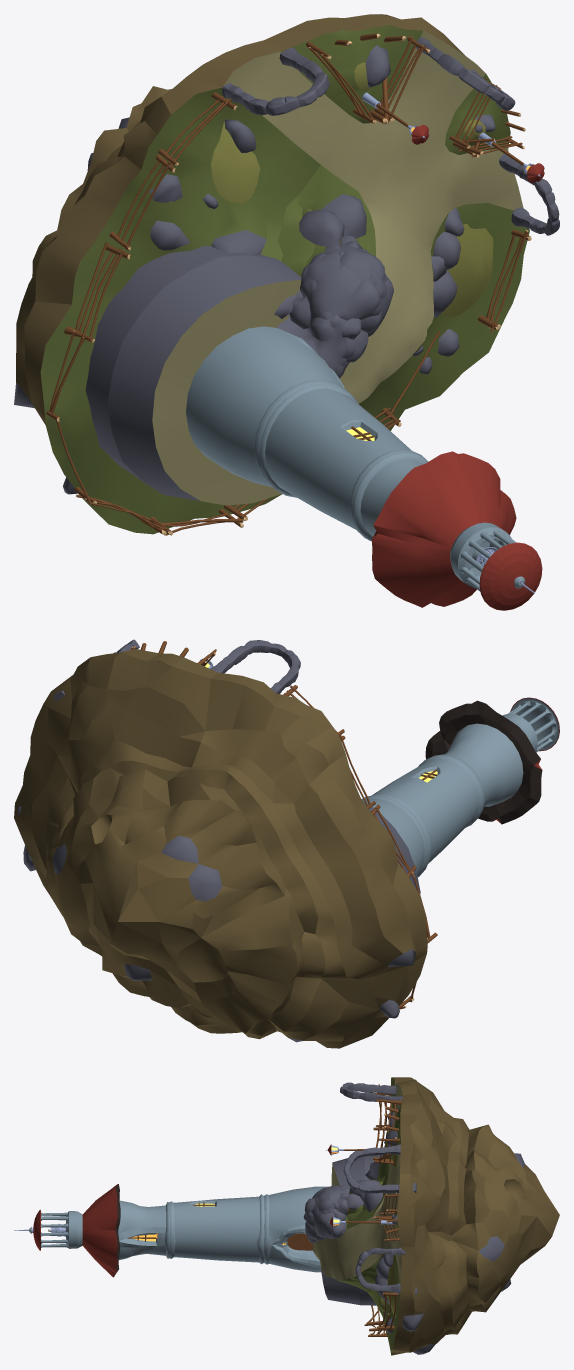
The model's file is MAYAK3.fbx.
3 views of the same model, one above another, from view 1: azimuth 30°, elevation 25°; view 2: azimuth 150°, elevation 25°; view 3: azimuth 270°, elevation 25° (orthographic). The views are drawn at different scales.
Parts seen in each view (by area): view 1: land; view 2: land; view 3: land.
Boxes of the visible parts, left/top/right/bottom form: land: left=14, top=14, right=559, bottom=610; land: left=14, top=639, right=559, bottom=1048; land: left=14, top=1077, right=559, bottom=1355.
Bounding box in the file's own units: 10305 × 8775 × 16769.
